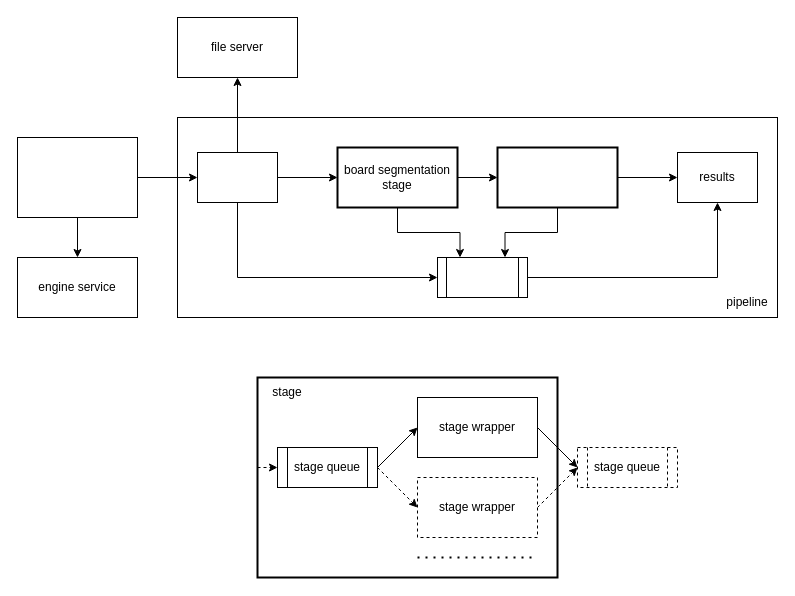
Image size: 795x596. Some labels were removed from this diagram. The box of each missing label's shape, as (x1, y1, x2, y2) in pixels:
error queue: (436, 256, 528, 298)
piece classification stage: (496, 146, 618, 208)
upload: (196, 152, 278, 202)
web frontend: (16, 136, 138, 218)
